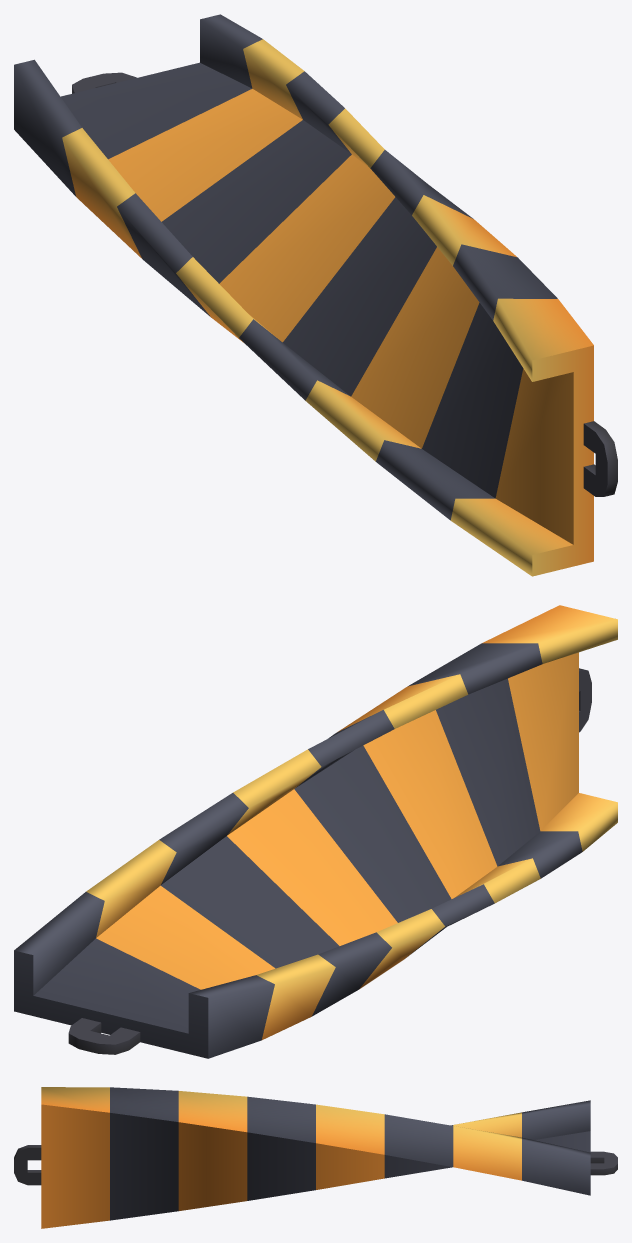
Rendered from track-striped-narrow-straight-skew-right-side.fbx.
The picture shows the model from 3 angles, top to bottom: view 1: azimuth 30°, elevation 25°; view 2: azimuth 150°, elevation 25°; view 3: azimuth 270°, elevation 25°; orthographic projection. The views are drawn at different scales.
Visible parts, largest first — view 1: track-striped-narrow-straight-skew-right-side; view 2: track-striped-narrow-straight-skew-right-side; view 3: track-striped-narrow-straight-skew-right-side.
Boxes of the visible parts, left/top/right/bottom form: track-striped-narrow-straight-skew-right-side: left=14, top=14, right=617, bottom=576; track-striped-narrow-straight-skew-right-side: left=14, top=605, right=617, bottom=1058; track-striped-narrow-straight-skew-right-side: left=14, top=1087, right=617, bottom=1228.
Bounding box in the file's own units: 108 × 108 × 440.
